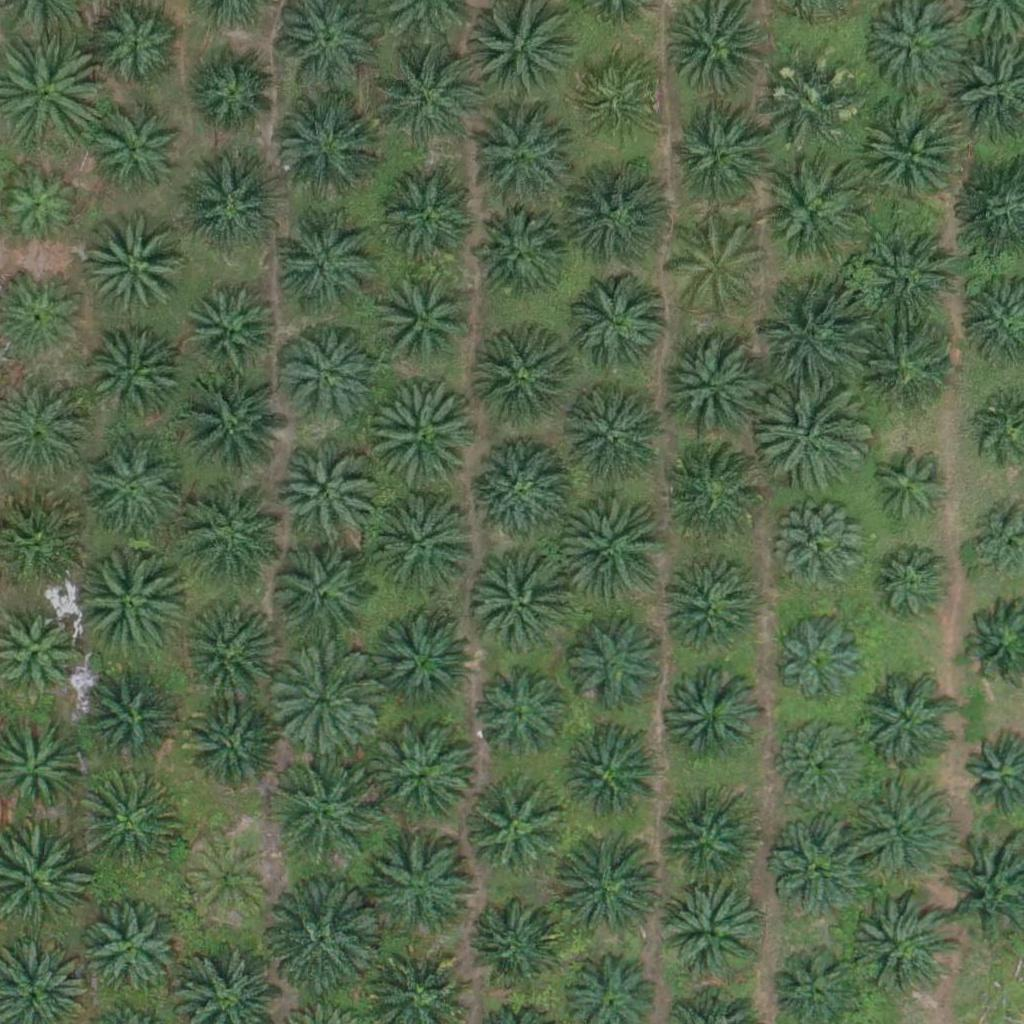Kelapa_Sawit: (266, 87, 379, 201), (265, 758, 378, 872), (66, 544, 179, 657), (365, 382, 478, 495), (557, 489, 670, 602), (265, 884, 378, 997), (273, 199, 385, 313), (563, 379, 675, 493), (756, 378, 868, 492), (756, 286, 868, 400), (175, 371, 287, 484), (266, 643, 378, 756), (367, 486, 479, 599), (370, 41, 482, 154), (567, 161, 679, 274), (666, 328, 778, 441), (841, 771, 953, 884), (553, 829, 665, 942), (74, 767, 186, 880), (81, 225, 181, 326), (80, 437, 180, 538), (71, 666, 171, 767), (174, 597, 274, 698), (184, 497, 284, 598), (180, 152, 280, 253), (278, 324, 378, 425), (275, 440, 375, 541), (373, 605, 473, 706), (375, 167, 475, 268), (374, 271, 474, 372), (471, 106, 571, 207), (468, 328, 568, 429), (474, 436, 574, 537), (473, 561, 573, 662), (566, 613, 666, 714), (573, 272, 673, 373), (664, 218, 764, 319), (659, 448, 759, 549), (663, 563, 763, 664), (664, 671, 764, 772), (761, 66, 861, 167), (866, 110, 966, 211), (861, 226, 961, 327), (859, 318, 959, 419), (847, 895, 947, 996), (772, 812, 872, 913), (656, 881, 756, 982), (656, 793, 756, 894), (560, 725, 660, 826), (79, 899, 179, 1000), (86, 323, 186, 423), (268, 547, 368, 647), (468, 206, 568, 306), (666, 109, 766, 209), (772, 610, 872, 710), (762, 165, 862, 265), (858, 674, 958, 774), (462, 775, 562, 875), (467, 891, 567, 991), (373, 724, 473, 824), (373, 841, 473, 941), (175, 694, 275, 794), (863, 541, 951, 630), (777, 717, 865, 806), (1, 162, 89, 250), (575, 54, 663, 142), (184, 837, 272, 925), (860, 448, 947, 536), (90, 1, 177, 89), (94, 108, 181, 196), (185, 282, 272, 370), (188, 43, 275, 131), (476, 670, 563, 758), (779, 511, 866, 599)
